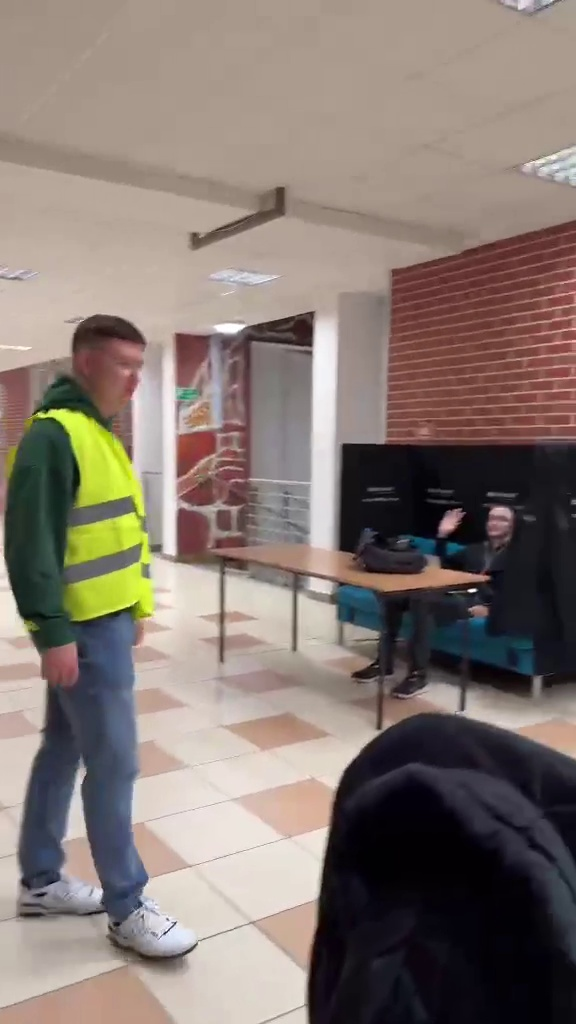no vest: (401, 493, 541, 685)
vest: (2, 313, 198, 949)
